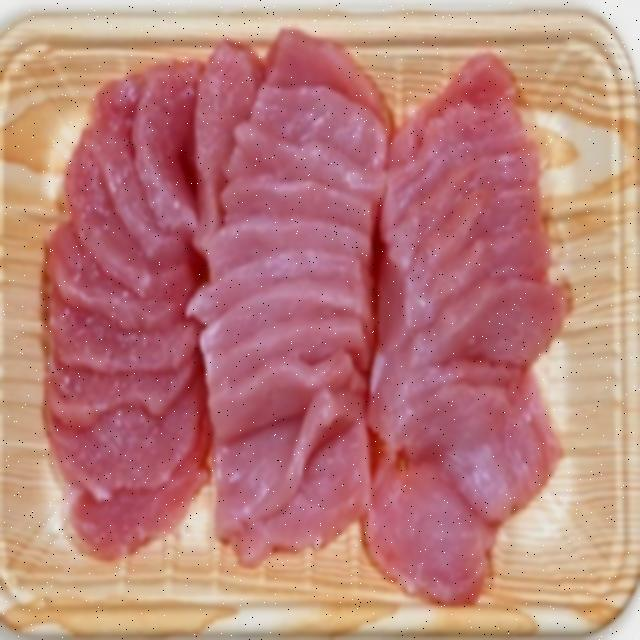pork: (45, 31, 568, 607)
